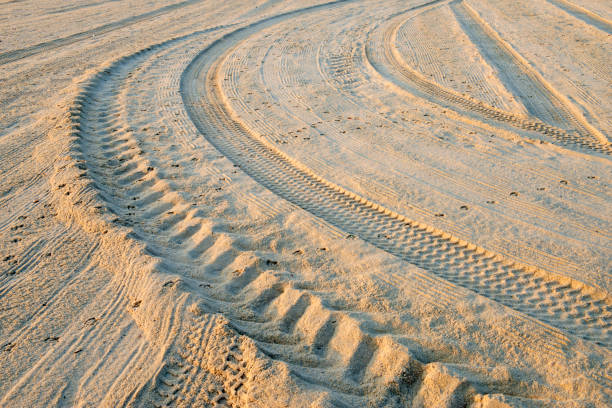vehicle_track: (71, 34, 448, 405), (181, 30, 611, 347), (365, 2, 611, 154)
